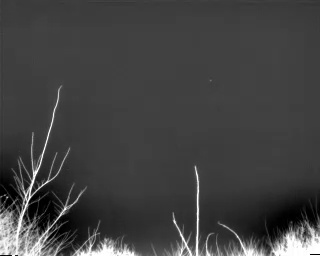BIRD: (207, 77, 214, 84)
